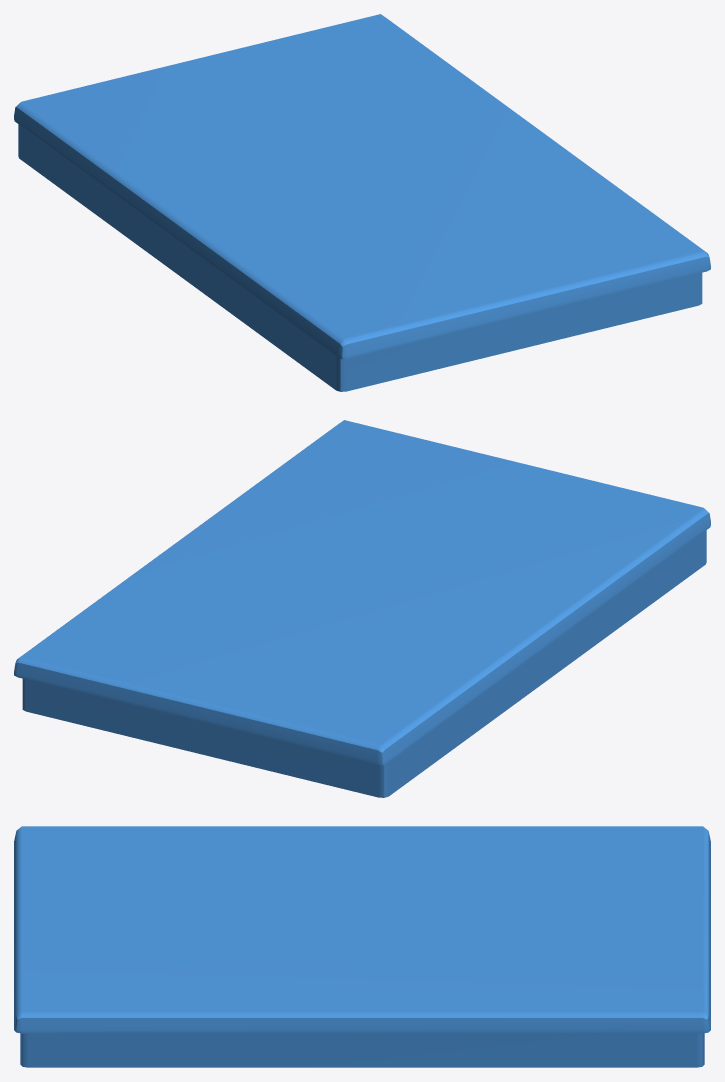
File: levelGround.glb
The picture shows the model from 3 angles, top to bottom: view 1: azimuth 30°, elevation 25°; view 2: azimuth 150°, elevation 25°; view 3: azimuth 270°, elevation 25°; orthographic projection. The views are drawn at different scales.
Visible parts, largest first — view 1: Box 1 copy, Box 1 copy copy; view 2: Box 1 copy, Box 1 copy copy; view 3: Box 1 copy, Box 1 copy copy.
Boxes of the visible parts, x1,y1,x2,y2 form: Box 1 copy: (14, 14, 710, 359); Box 1 copy copy: (18, 124, 702, 391); Box 1 copy: (14, 420, 710, 765); Box 1 copy copy: (22, 530, 706, 797); Box 1 copy: (14, 826, 710, 1033); Box 1 copy copy: (20, 1033, 704, 1067).
Bounding box in the file's own units: 41.65 × 5.7 × 64.01.
